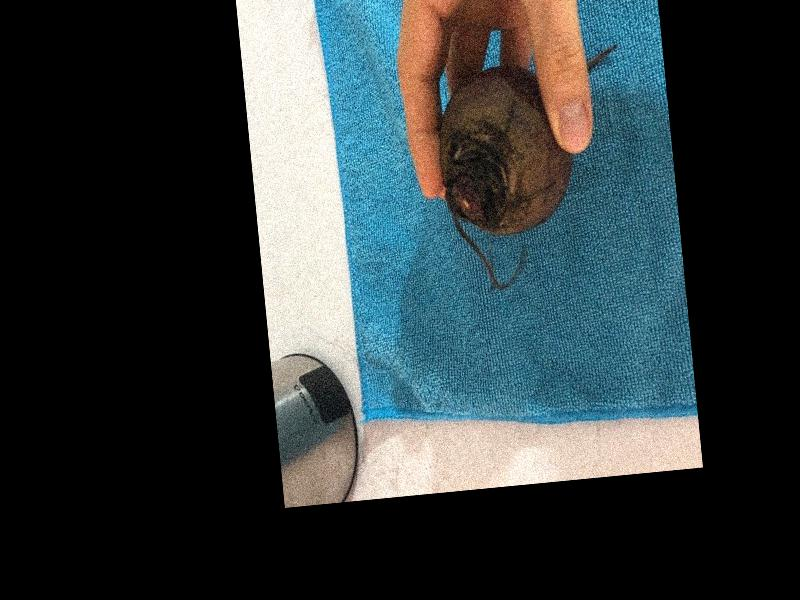Beet: (432, 45, 638, 292)
